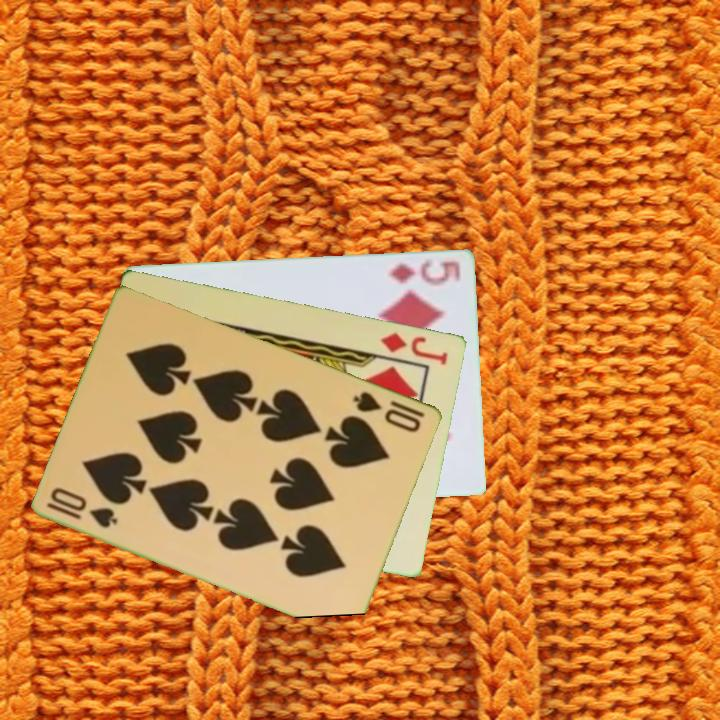10s: (44, 483, 121, 531), (350, 387, 425, 435)
5d: (385, 255, 464, 287)
Jd: (378, 328, 452, 368)
